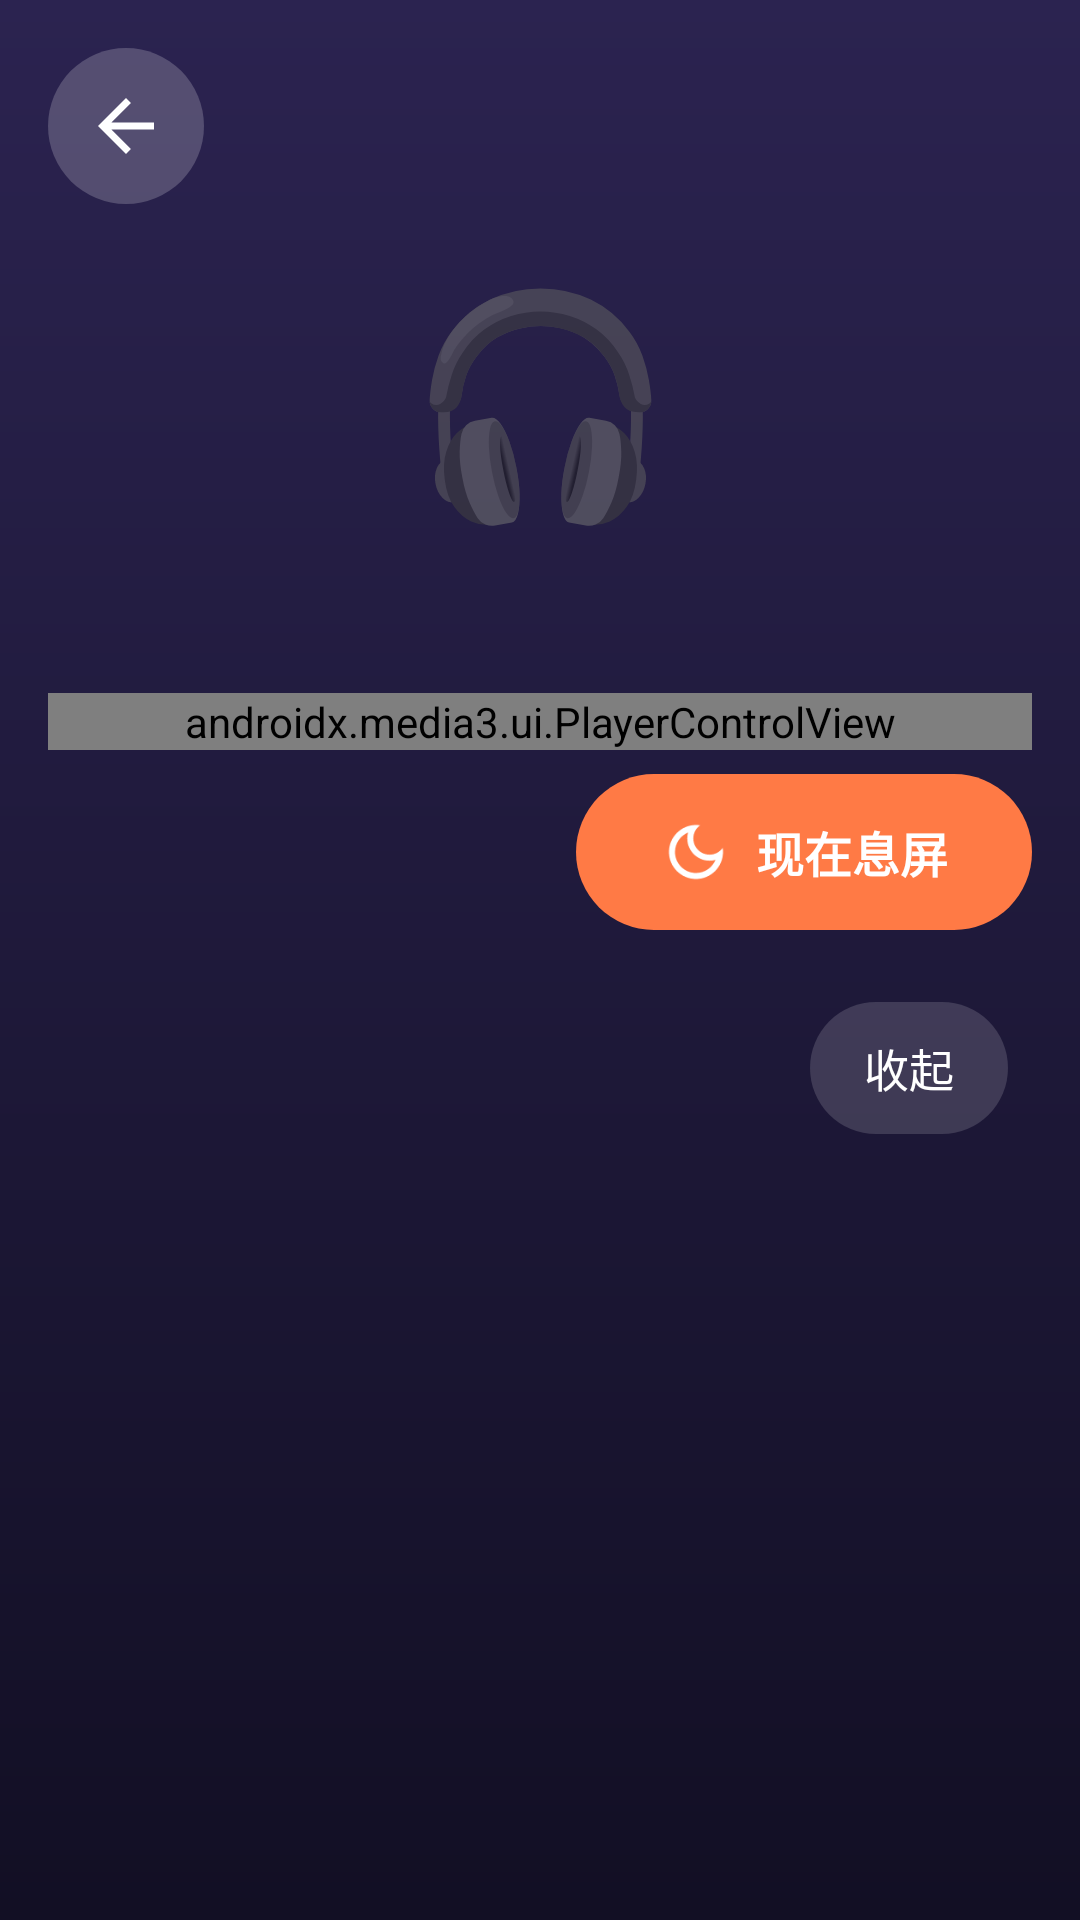

Where to tap for icons on this 1080px x 1920px app screen, as (x,y):
返回: (126,126)
